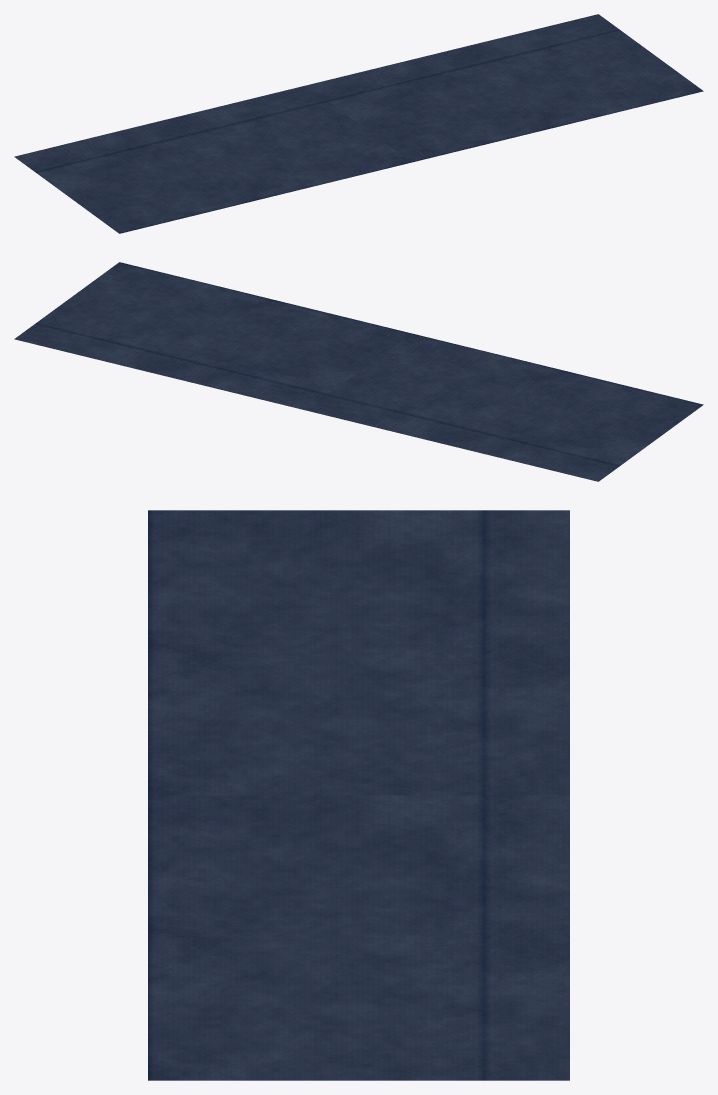
Rendered from lot_asphalt_module.glb.
The picture shows the model from 3 angles, top to bottom: view 1: azimuth 30°, elevation 25°; view 2: azimuth 150°, elevation 25°; view 3: azimuth 270°, elevation 25°; orthographic projection. The views are drawn at different scales.
Visible parts, largest first — view 1: lot_asphalt_module; view 2: lot_asphalt_module; view 3: lot_asphalt_module.
Boxes of the visible parts, left/top/right/bottom form: lot_asphalt_module: left=14, top=14, right=703, bottom=233; lot_asphalt_module: left=14, top=262, right=703, bottom=481; lot_asphalt_module: left=148, top=510, right=569, bottom=1080.
Size of the model in its own units: 16 by 0 by 5.
1 material, 1 textured.
